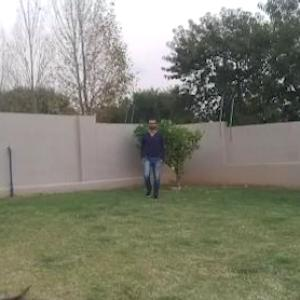follow: (141, 110, 165, 206)
